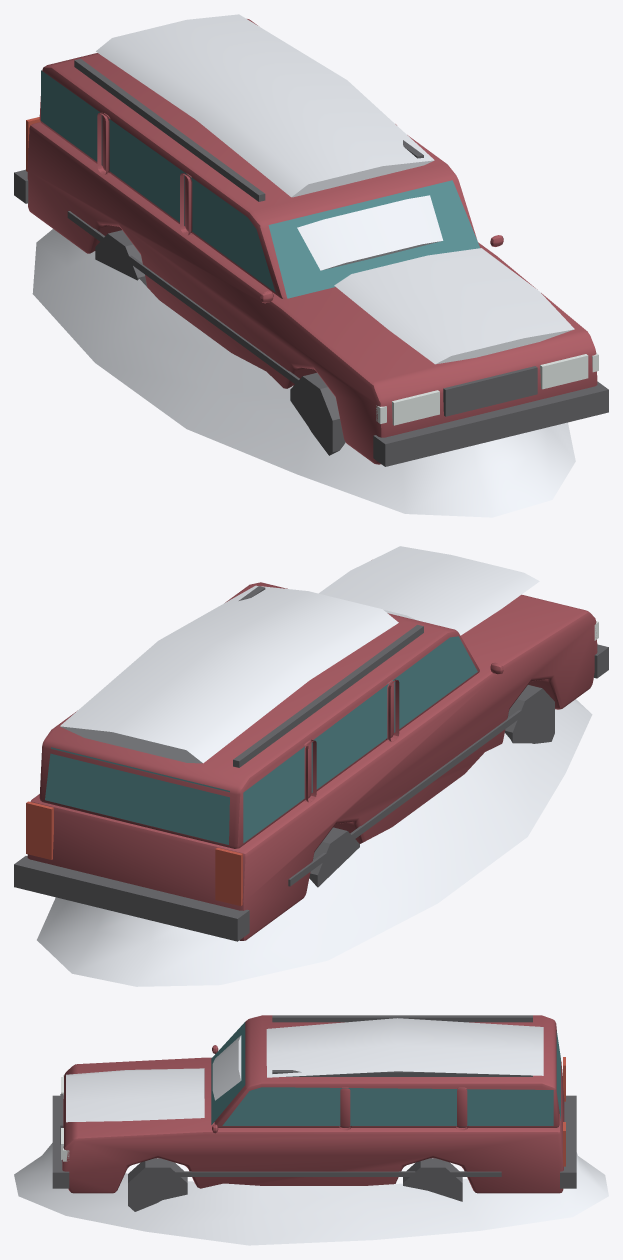
The model's file is volvo_snow.glb.
3 views of the same model, one above another, from view 1: azimuth 30°, elevation 25°; view 2: azimuth 150°, elevation 25°; view 3: azimuth 270°, elevation 25° (orthographic). The views are drawn at different scales.
Visible parts, largest first — view 1: snow, volvo_snow, trim, glass, lights; view 2: snow, volvo_snow, glass, trim, taillights; view 3: snow, volvo_snow, glass, trim.
Boxes of the visible parts, <box> form: snow: <box>32,14,575,517</box>; volvo_snow: <box>27,19,597,464</box>; trim: <box>14,58,608,466</box>; glass: <box>41,70,479,298</box>; lights: <box>376,353,598,425</box>; snow: <box>37,546,592,986</box>; volvo_snow: <box>27,582,597,940</box>; glass: <box>45,636,477,844</box>; trim: <box>14,586,608,941</box>; taillights: <box>26,801,242,906</box>; snow: <box>14,1018,608,1245</box>; volvo_snow: <box>62,1015,564,1193</box>; glass: <box>211,1022,560,1125</box>; trim: <box>52,1015,576,1211</box>.
Bounding box in the file's own units: 2.71 × 1.63 × 5.71.
